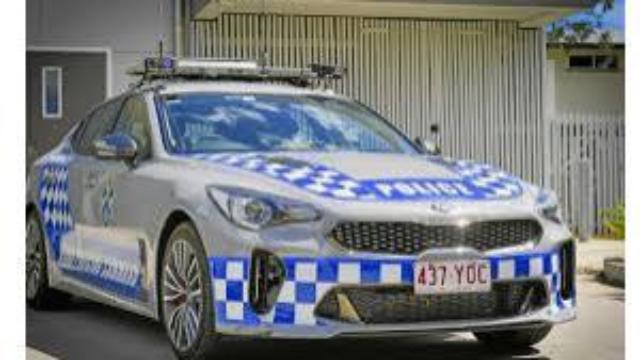police_car: (25, 57, 578, 360)
